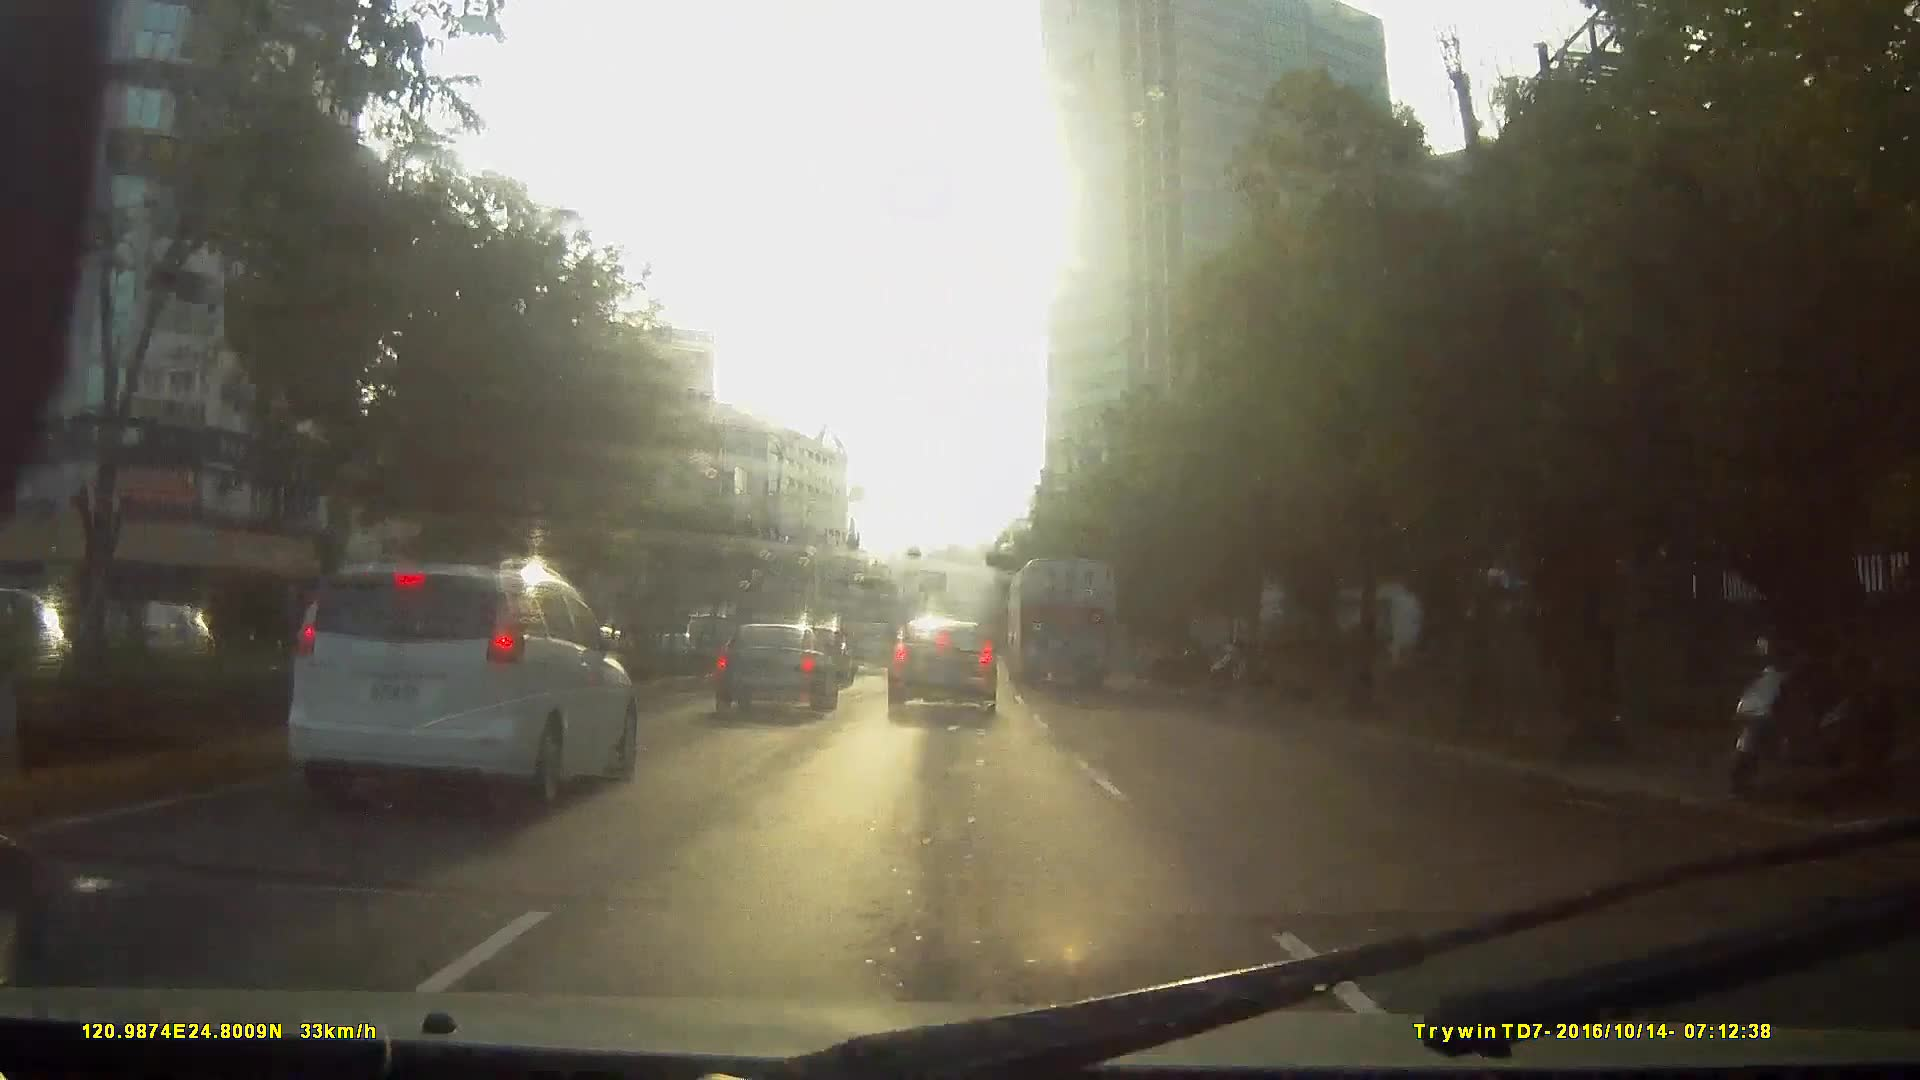vehicle: (251, 556, 684, 868), (268, 554, 647, 822), (1007, 551, 1120, 686), (711, 617, 839, 715), (887, 611, 1000, 715), (848, 620, 899, 673)
